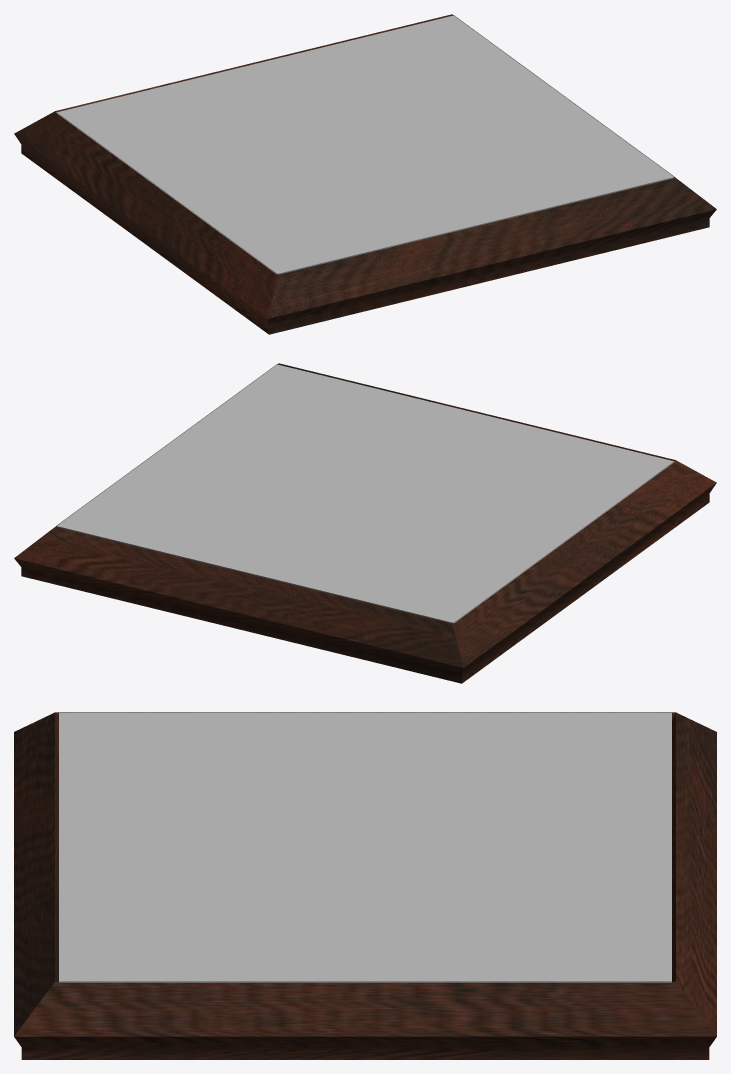
The model's file is Board.fbx.
3 views of the same model, one above another, from view 1: azimuth 30°, elevation 25°; view 2: azimuth 150°, elevation 25°; view 3: azimuth 270°, elevation 25° (orthographic). The views are drawn at different scales.
Parts seen in each view (by area): view 1: pCube10; view 2: pCube10; view 3: pCube10.
Part boxes in pixels (x1,y1,x2,y2): pCube10: (14,14,716,334); pCube10: (14,363,716,683); pCube10: (14,712,716,1059).
Size of the model in its own units: 127 by 12.33 by 123.
